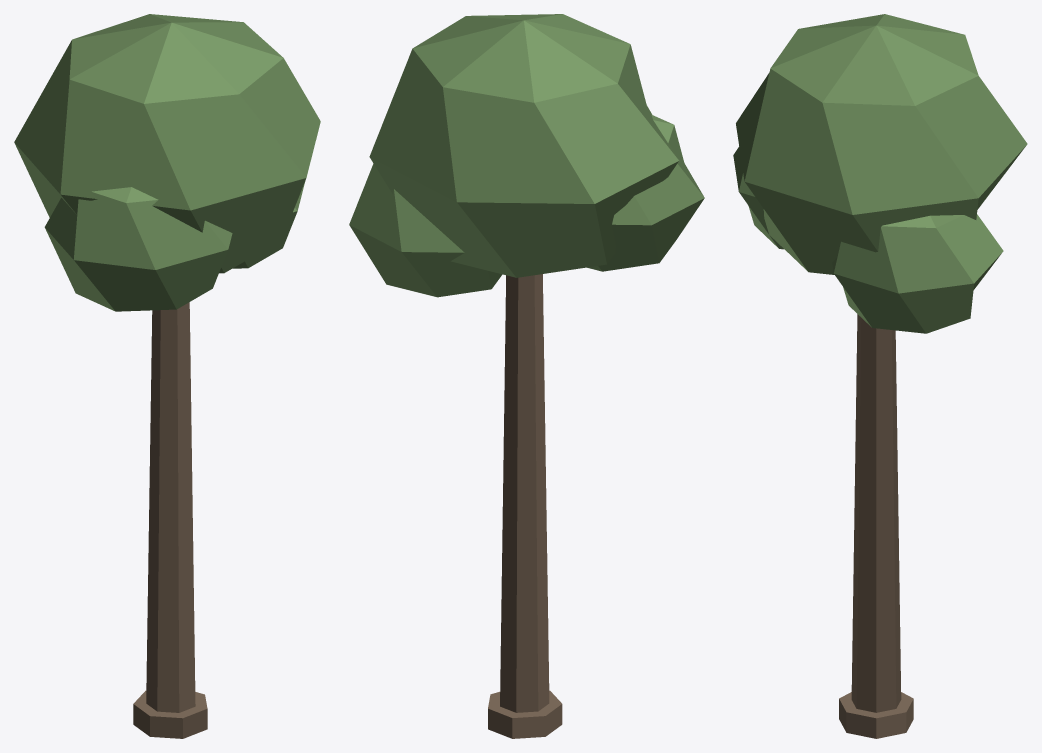
Rendered from SM_Kit_arvore_b.fbx.
The picture shows the model from 3 angles, left to right: view 1: azimuth 30°, elevation 25°; view 2: azimuth 150°, elevation 25°; view 3: azimuth 270°, elevation 25°; orthographic projection.
Parts seen in each view (by area): view 1: SM_Kit_arvore_b; view 2: SM_Kit_arvore_b; view 3: SM_Kit_arvore_b.
Boxes of the visible parts, x1,y1,x2,y2 form: SM_Kit_arvore_b: (14, 14, 320, 738); SM_Kit_arvore_b: (349, 14, 704, 738); SM_Kit_arvore_b: (733, 14, 1027, 738).
Size of what is drawn, in the model's own units: 359 by 844 by 323.
